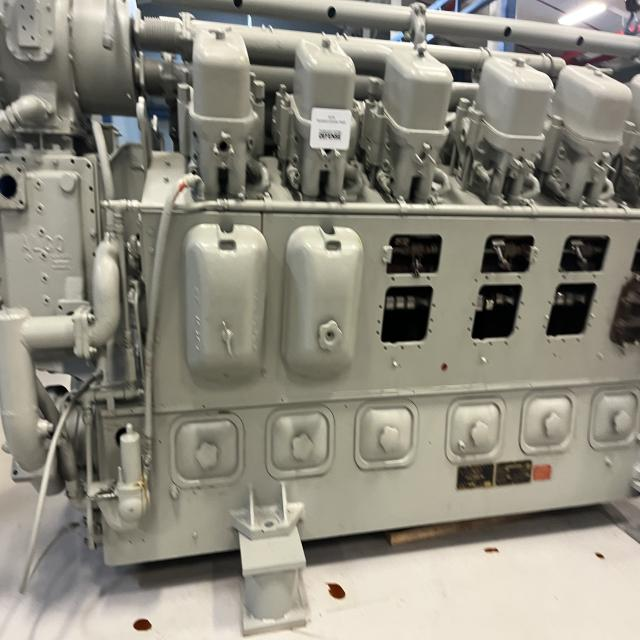Oil Leak: (327, 583, 345, 599), (133, 619, 152, 631), (484, 546, 499, 553), (595, 552, 604, 559)
